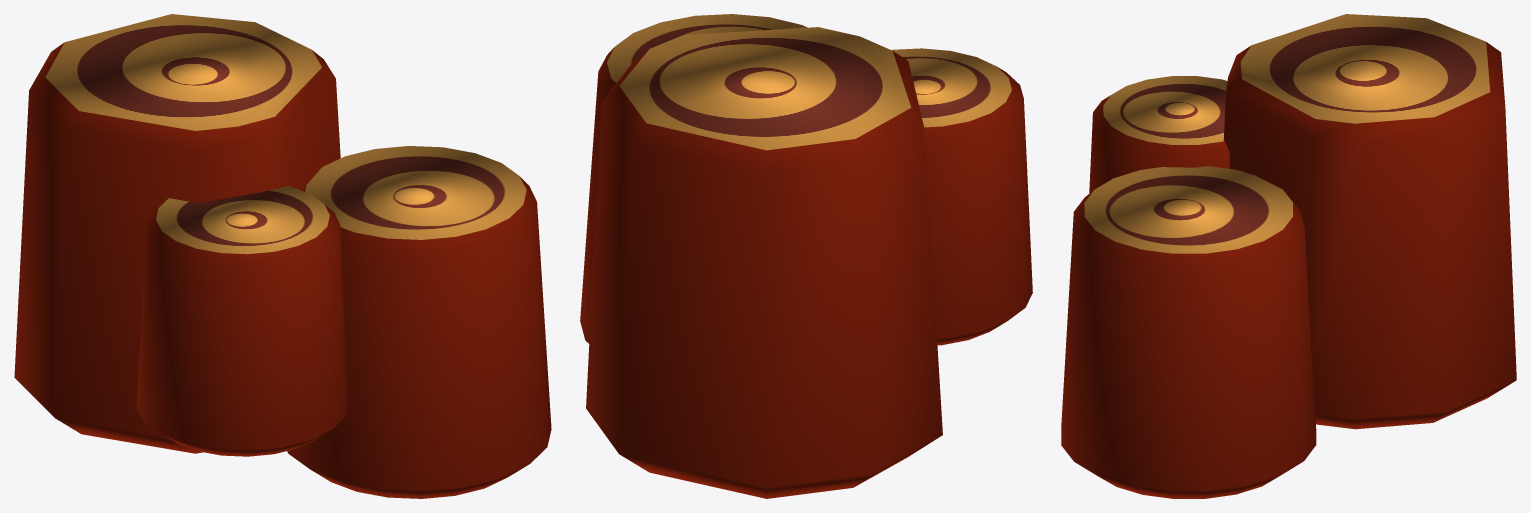
Rendered from LogsCombinedLow.fbx.
3 renders of one model, left to right at view 1: azimuth 30°, elevation 25°; view 2: azimuth 150°, elevation 25°; view 3: azimuth 270°, elevation 25°, orthographic. The views are drawn at different scales.
Visible parts, largest first — view 1: LogsCombined1, LogsCombined2, LogsCombined3; view 2: LogsCombined1, LogsCombined3, LogsCombined2; view 3: LogsCombined1, LogsCombined2, LogsCombined3.
Boxes of the visible parts, x1,y1,x2,y2 form: LogsCombined1: (14, 14, 340, 453); LogsCombined2: (287, 146, 551, 498); LogsCombined3: (136, 186, 347, 456); LogsCombined1: (586, 27, 942, 498); LogsCombined3: (891, 48, 1032, 345); LogsCombined2: (580, 14, 807, 343); LogsCombined1: (1223, 14, 1516, 429); LogsCombined2: (1061, 166, 1316, 498); LogsCombined3: (1089, 76, 1229, 193).
Size of the model in its own units: 2.94 by 2.43 by 3.09.
